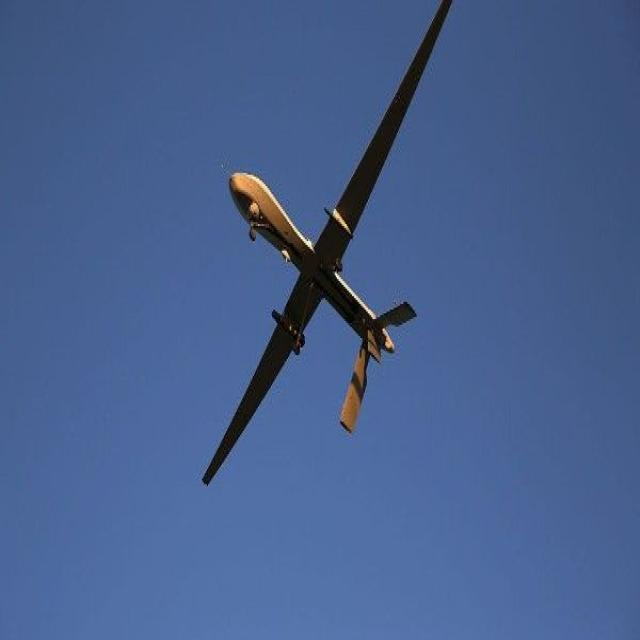iha: (196, 0, 445, 487)
